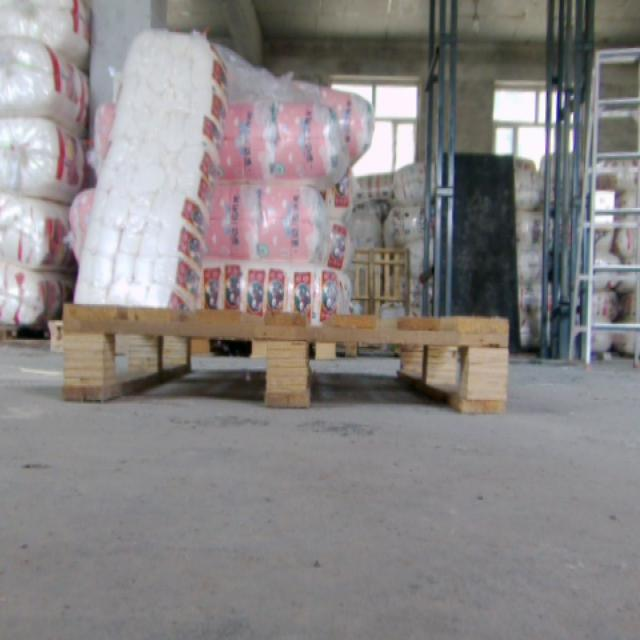block: (61, 332, 113, 402), (265, 341, 315, 406), (469, 351, 514, 414), (128, 334, 161, 375), (427, 344, 454, 387)
front: (58, 299, 515, 417)
